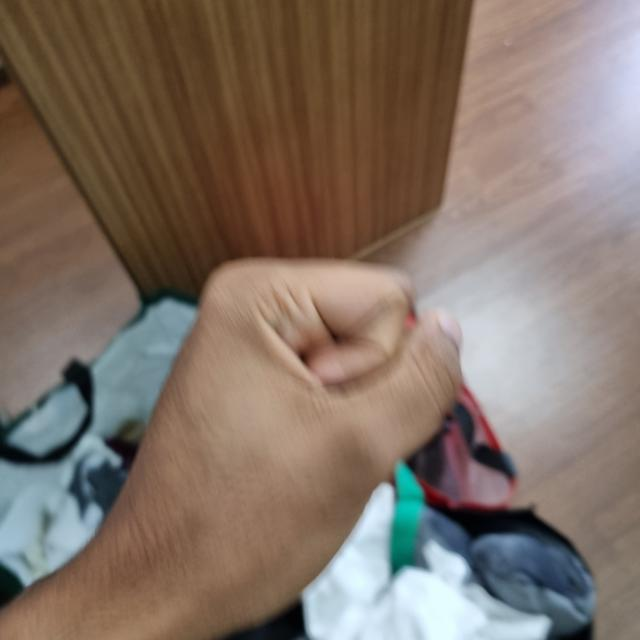Rock: (104, 257, 452, 629)
